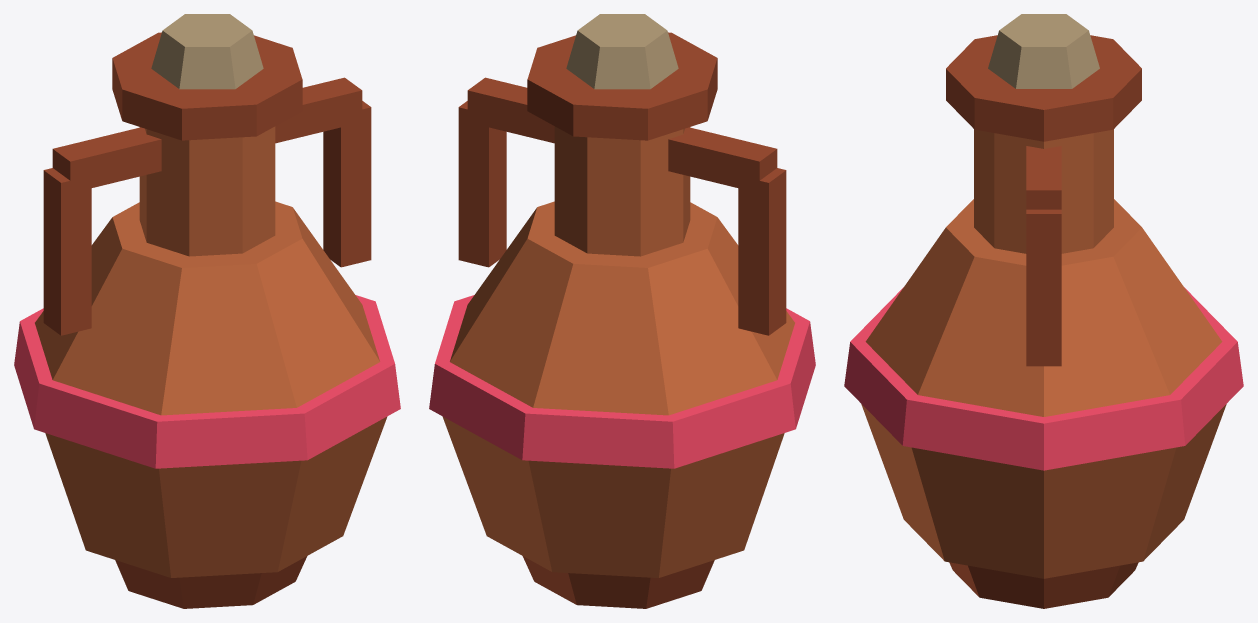
Rendered from PR_GiftAmphora.fbx.
3 views of the same model, side by side, from view 1: azimuth 30°, elevation 25°; view 2: azimuth 150°, elevation 25°; view 3: azimuth 270°, elevation 25° (orthographic).
Parts seen in each view (by area): view 1: PR_GiftAmphora_Mesh; view 2: PR_GiftAmphora_Mesh; view 3: PR_GiftAmphora_Mesh.
Part boxes in pixels (bbox=[...]): PR_GiftAmphora_Mesh: bbox=[14, 14, 400, 608]; PR_GiftAmphora_Mesh: bbox=[429, 14, 815, 608]; PR_GiftAmphora_Mesh: bbox=[844, 14, 1243, 608].
Size of the model in its own units: 0.57 by 0.57 by 0.85.
